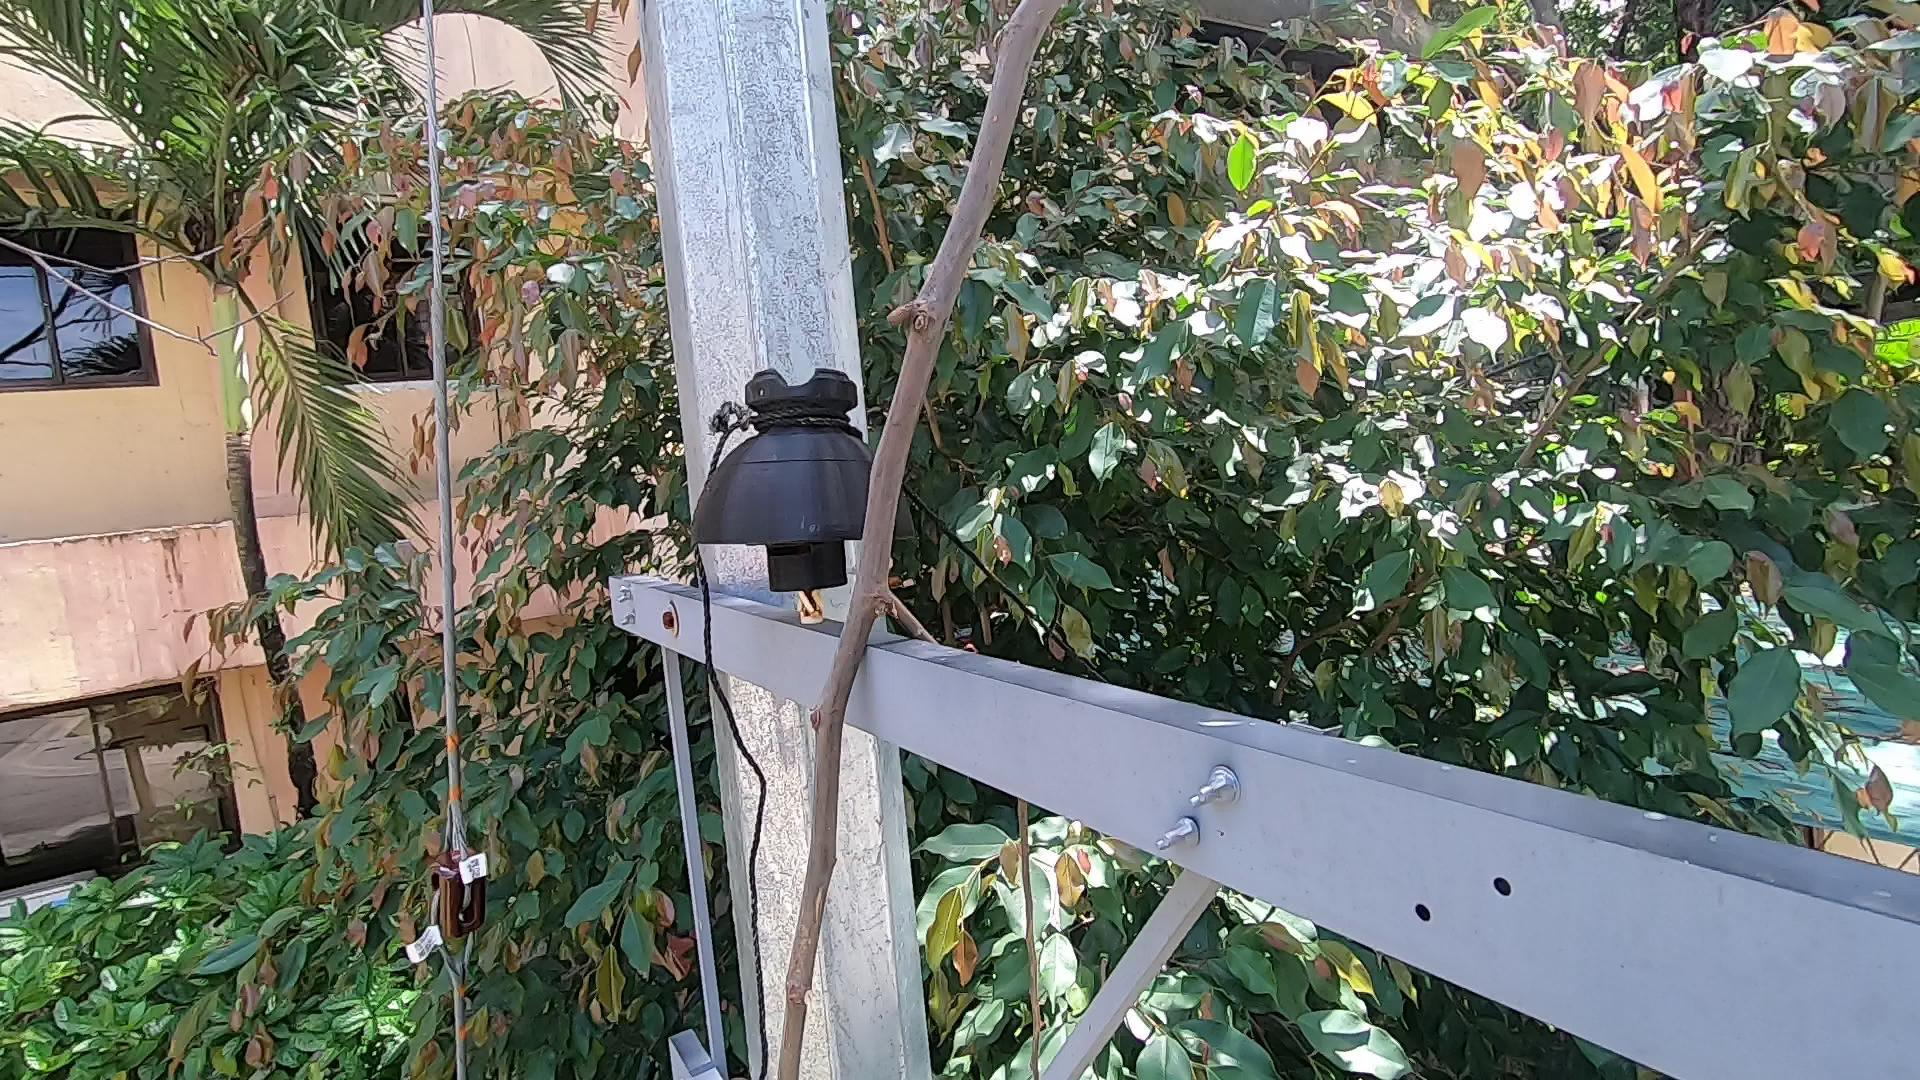tree branch: (765, 5, 1100, 1080)
